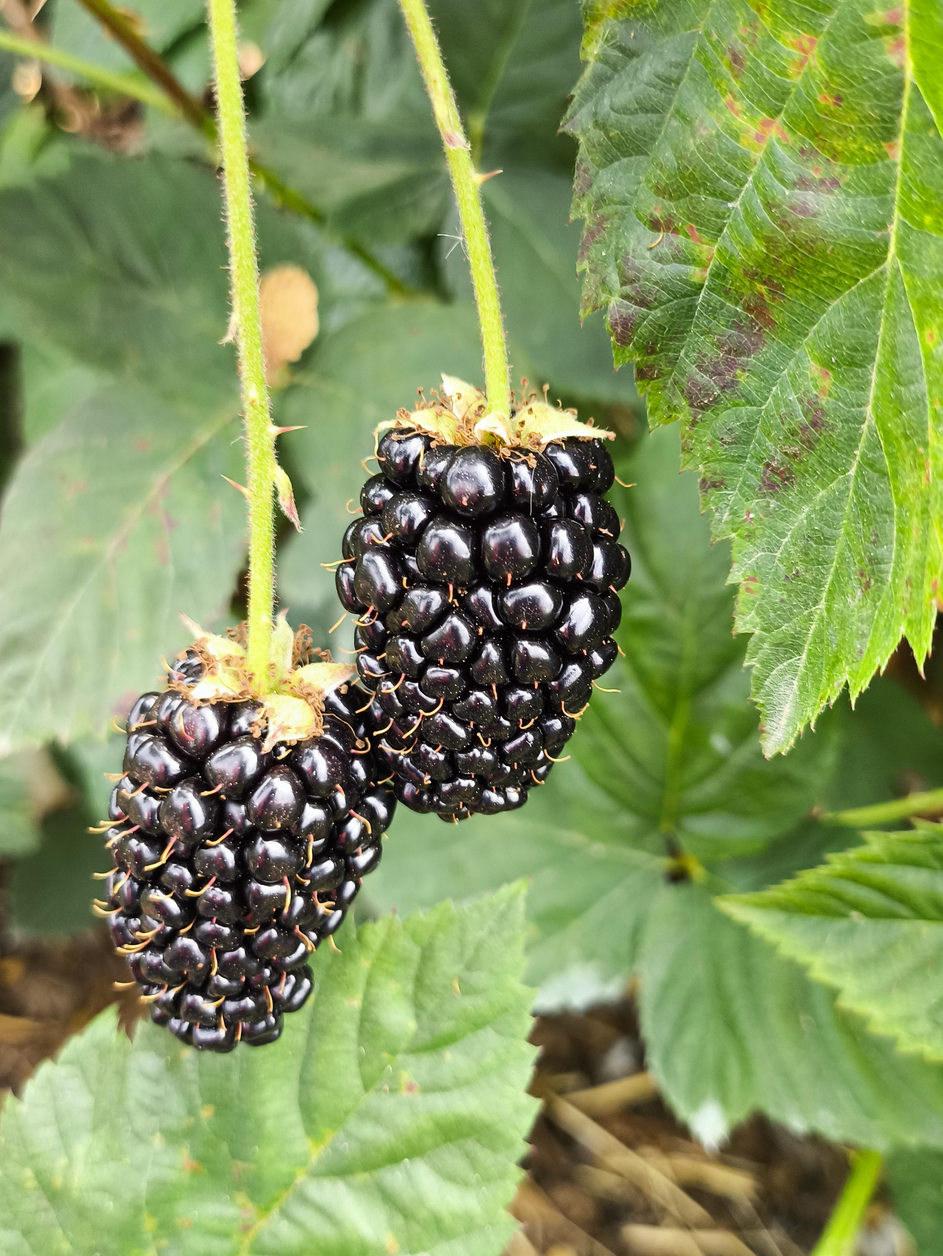maduro: (114, 637, 390, 1047), (338, 422, 626, 809)
